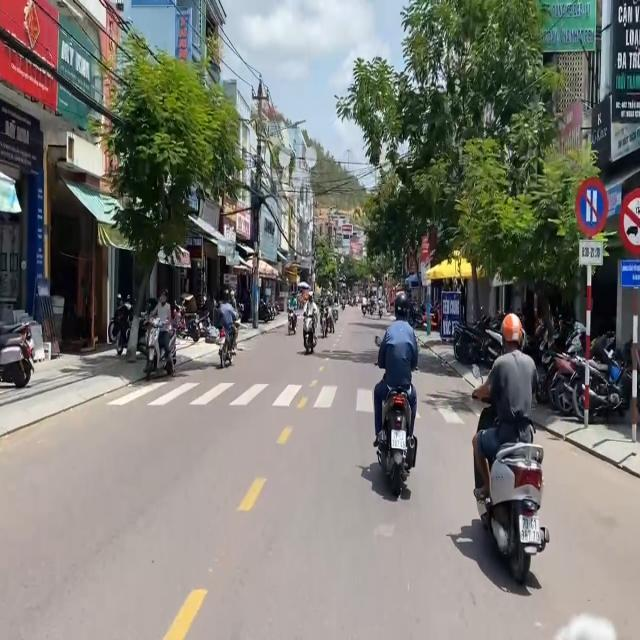walk-crossing: (104, 382, 374, 418), (416, 386, 466, 428)
